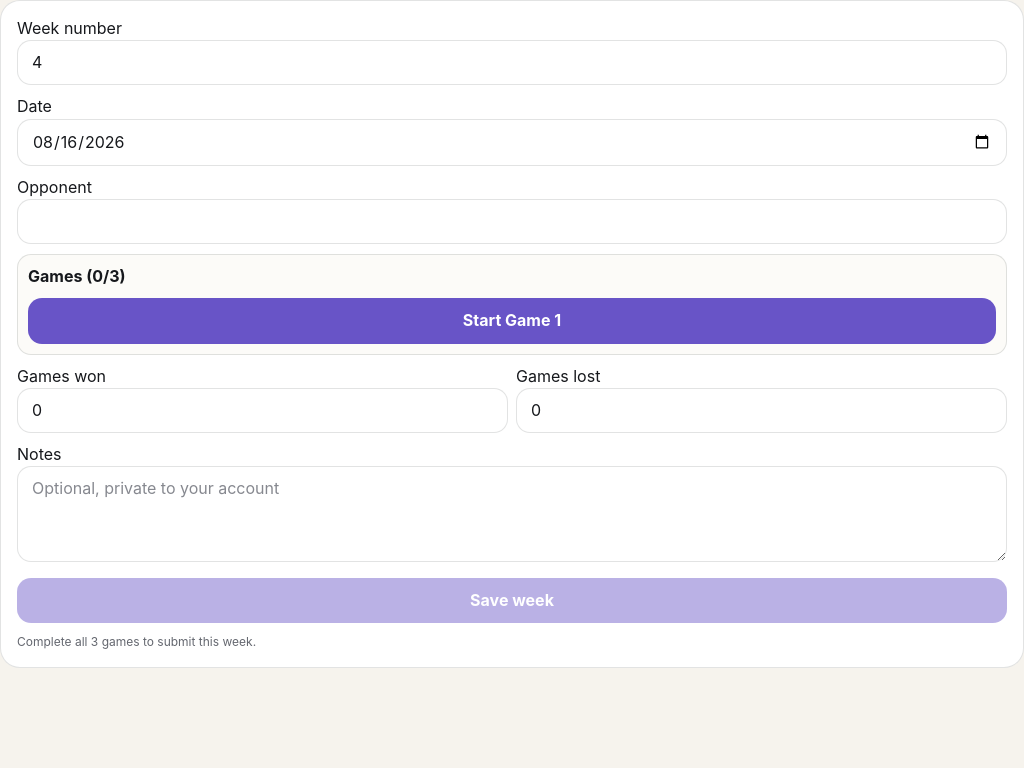
league week autosave › warns when the week draft cannot be written
This screenshot has width=1024, height=768.
Type "Pin Crushers" into the field labelled "Opponent" at (512, 222), box [17,199,1007,244]
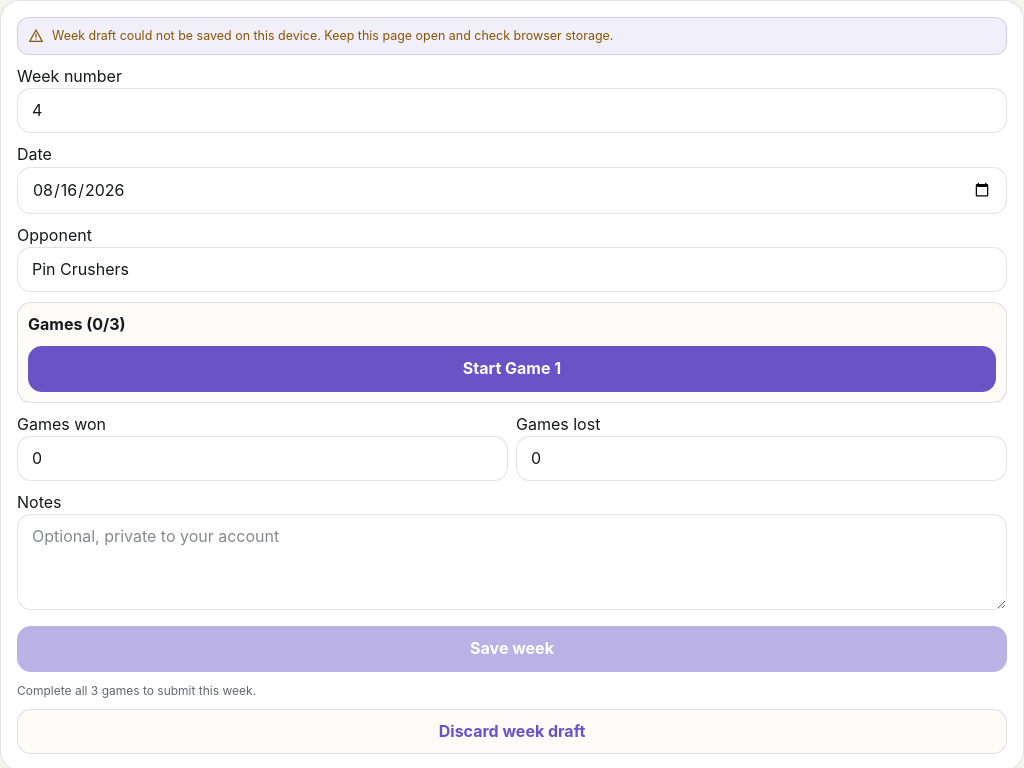
Result: the text "Week draft could not be saved on this device. Keep this page open and check browser storage." is shown at [52,28,614,43]
